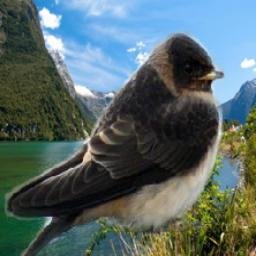Swallow: (6, 31, 226, 256)
